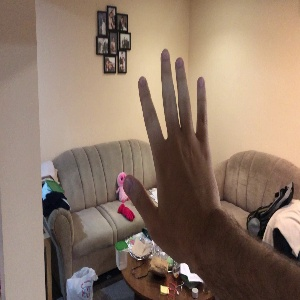hand: (124, 49, 213, 246)
